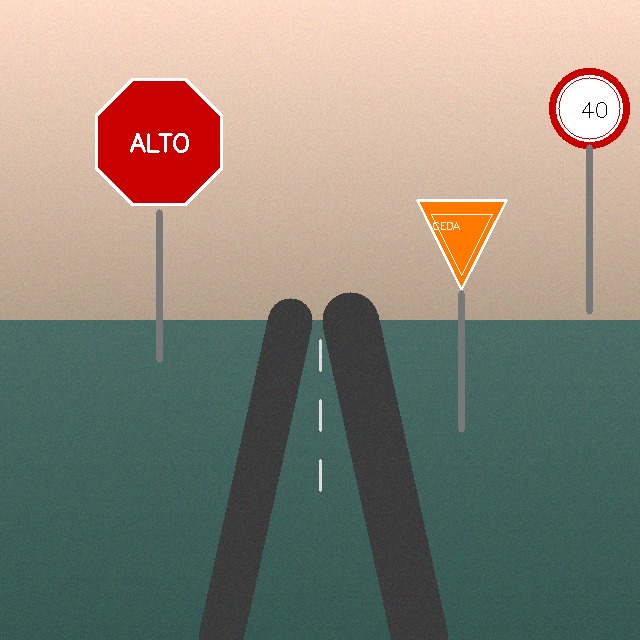alto: (89, 72, 229, 212)
ceda_el_paso: (413, 196, 510, 293)
velocidad: (550, 69, 628, 147)
